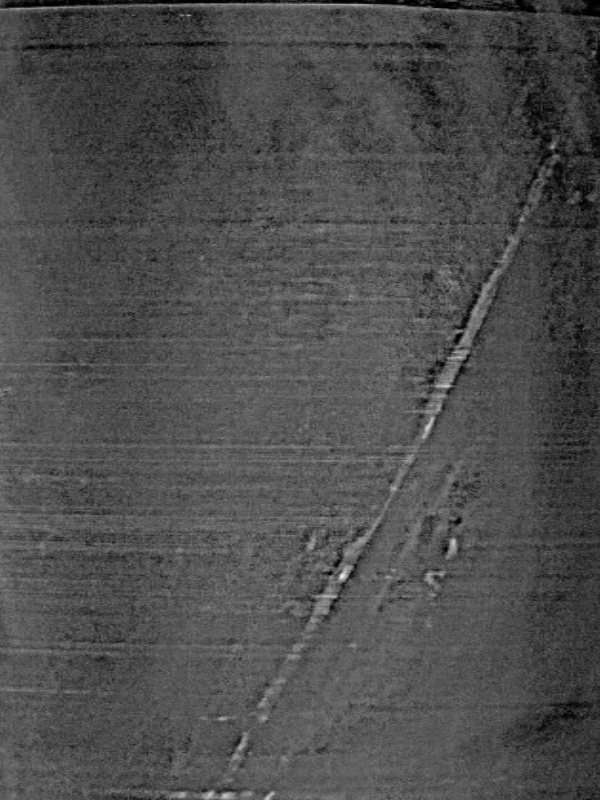splice_vulcanized: (170, 18, 600, 800)
